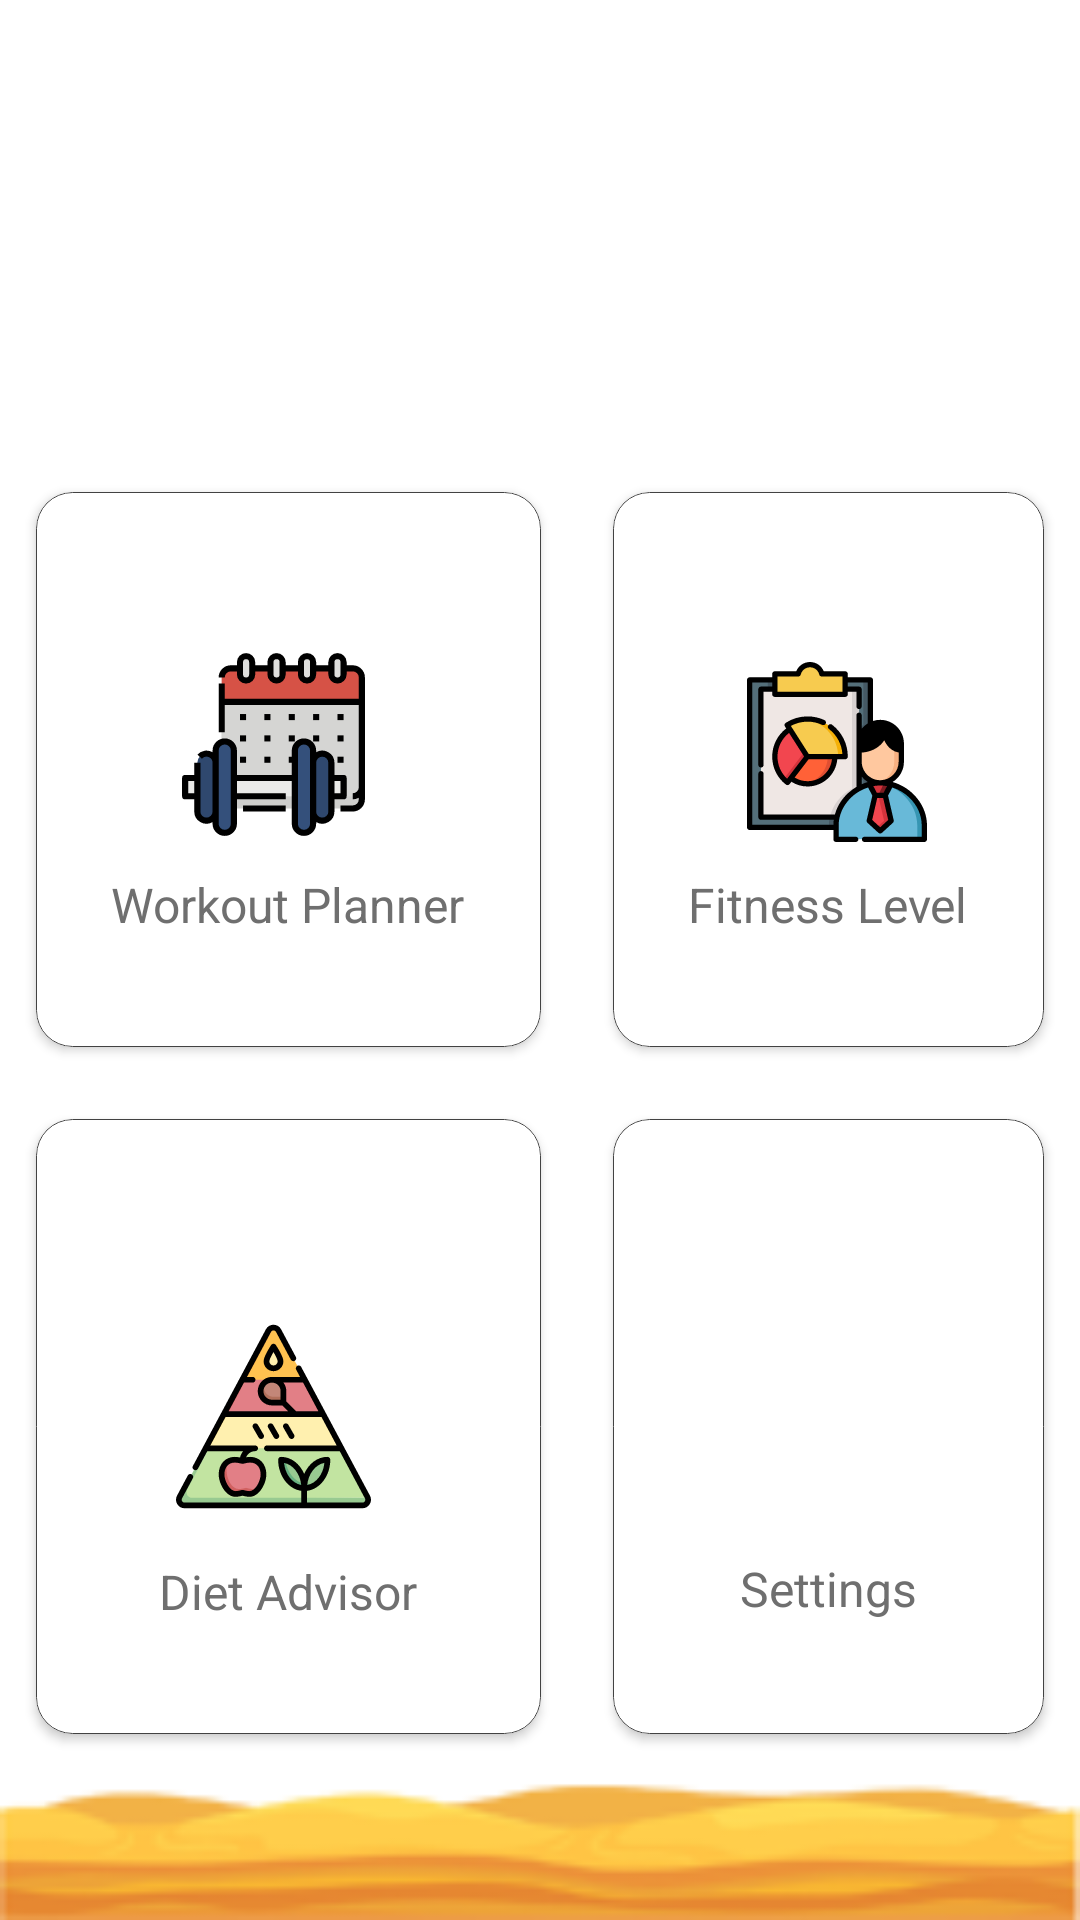

Locate icon controls on the screen. Image size 1080*1920, boxes as (x1, y1, x2, y2).
pyramid: (176, 1324, 371, 1509)
